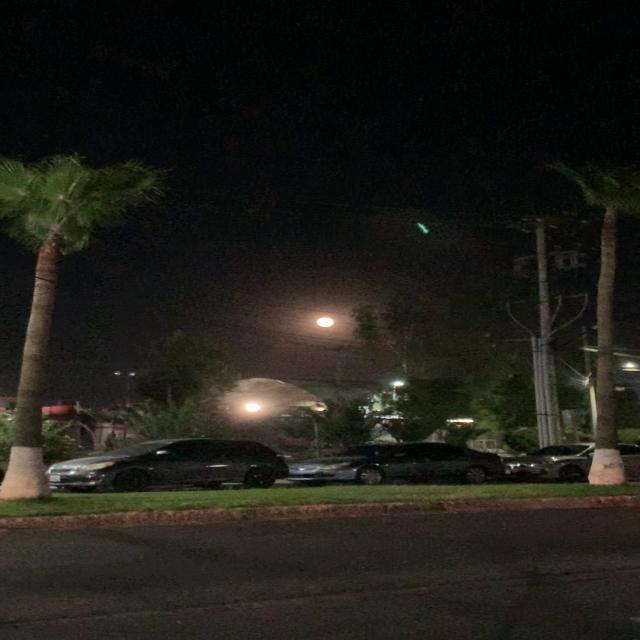moon: (314, 314, 338, 329)
